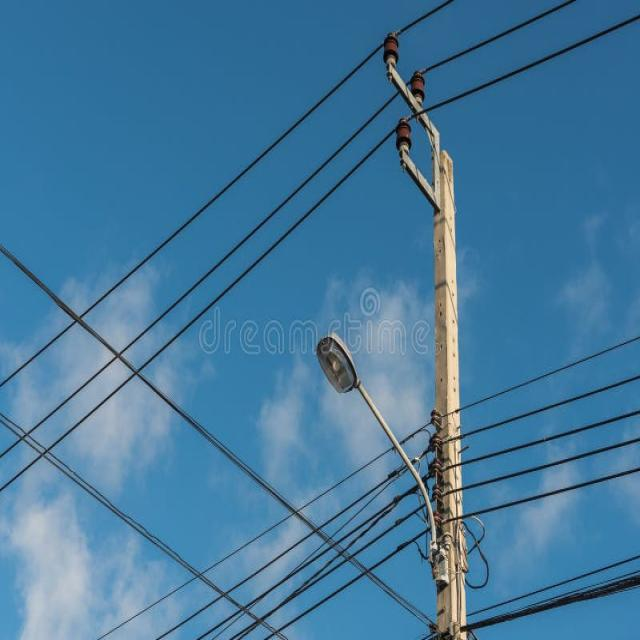light_pole: (363, 35, 464, 214)
